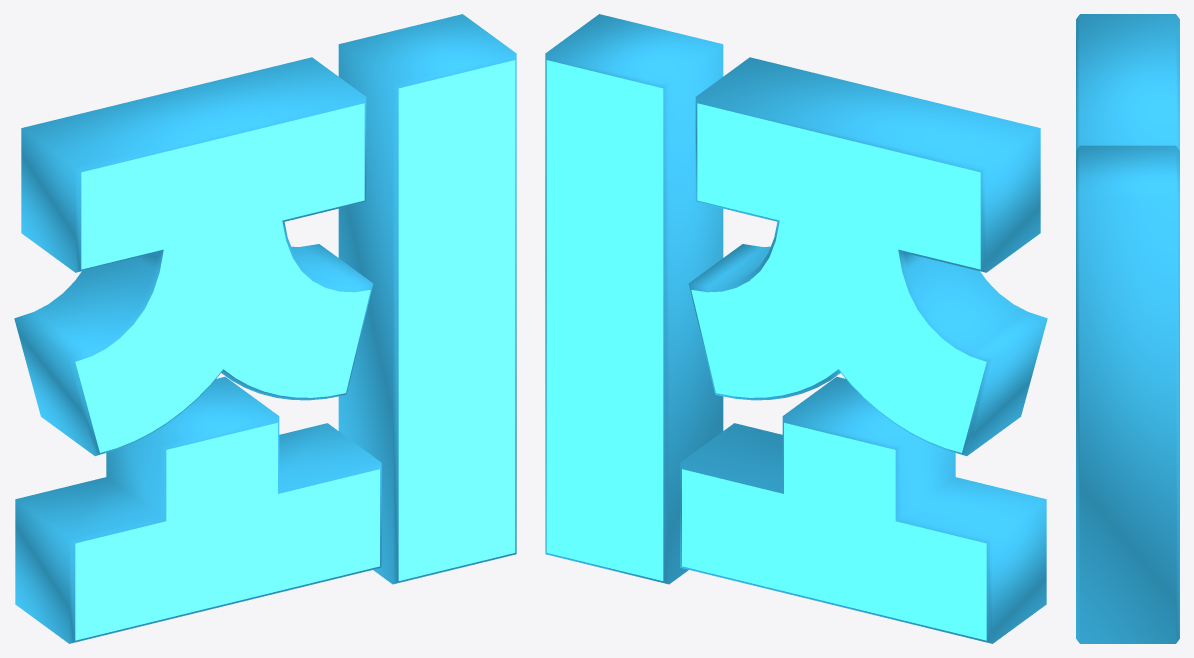
3 renders of one model, left to right at view 1: azimuth 30°, elevation 25°; view 2: azimuth 150°, elevation 25°; view 3: azimuth 270°, elevation 25°, orthographic. The views are drawn at different scales.
Visible parts, largest first — view 1: glyph; view 2: glyph; view 3: glyph.
Part boxes in pixels (x1,y1,x2,y2): glyph: [14, 14, 516, 643]; glyph: [545, 14, 1047, 643]; glyph: [1076, 14, 1179, 643].
Bounding box in the file's own units: 0.0718 × 0.0766 × 0.0162.
